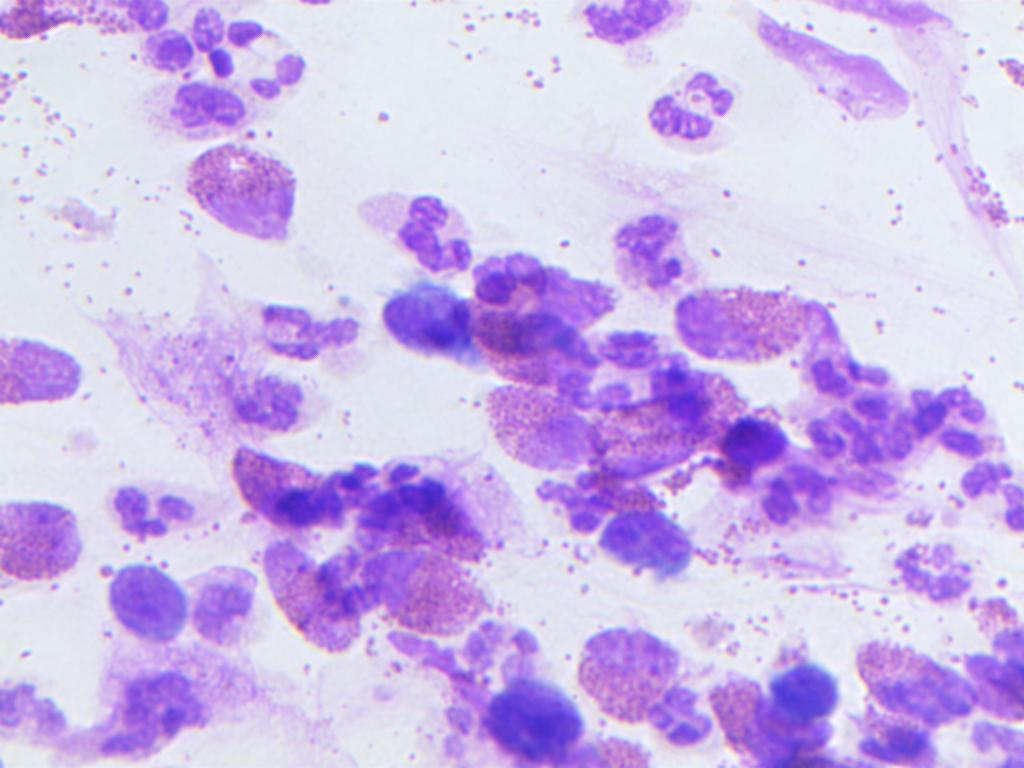artifact: (753, 7, 918, 133), (810, 0, 967, 49)
eosinophil: (570, 619, 714, 743), (584, 373, 741, 482), (182, 134, 309, 254), (372, 451, 503, 563), (243, 542, 365, 658), (214, 441, 351, 539), (855, 614, 966, 732), (0, 318, 113, 433), (363, 536, 482, 644), (461, 383, 597, 477), (707, 661, 821, 768), (2, 493, 91, 628), (456, 245, 612, 317), (657, 281, 808, 355), (958, 595, 1024, 756), (467, 307, 598, 388), (0, 0, 169, 48), (542, 722, 665, 768)
lymphocyte: (384, 280, 472, 380), (480, 676, 580, 760), (90, 562, 191, 641), (601, 510, 700, 586), (765, 635, 841, 724), (708, 413, 786, 472)
neutrophil: (583, 198, 713, 311), (210, 285, 366, 371), (619, 60, 746, 162), (87, 662, 212, 765), (343, 183, 479, 277), (97, 456, 233, 550), (112, 76, 292, 139), (134, 8, 240, 102), (885, 381, 1008, 461), (206, 373, 326, 448), (779, 337, 907, 405), (880, 521, 986, 603), (225, 20, 335, 96), (394, 685, 490, 768), (573, 0, 700, 59), (755, 451, 838, 538), (459, 611, 559, 683), (786, 398, 882, 471), (953, 443, 1024, 537), (532, 466, 613, 547)
